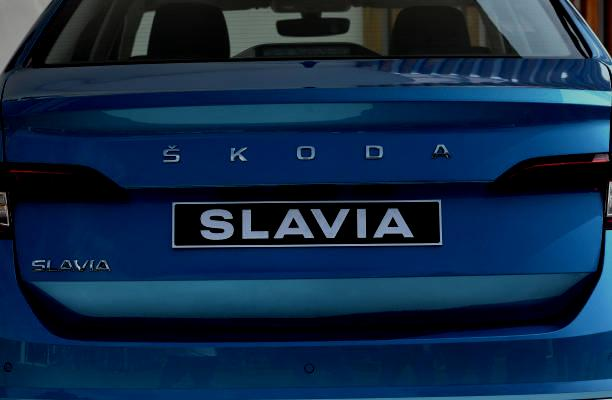skoda: (148, 128, 459, 181)
